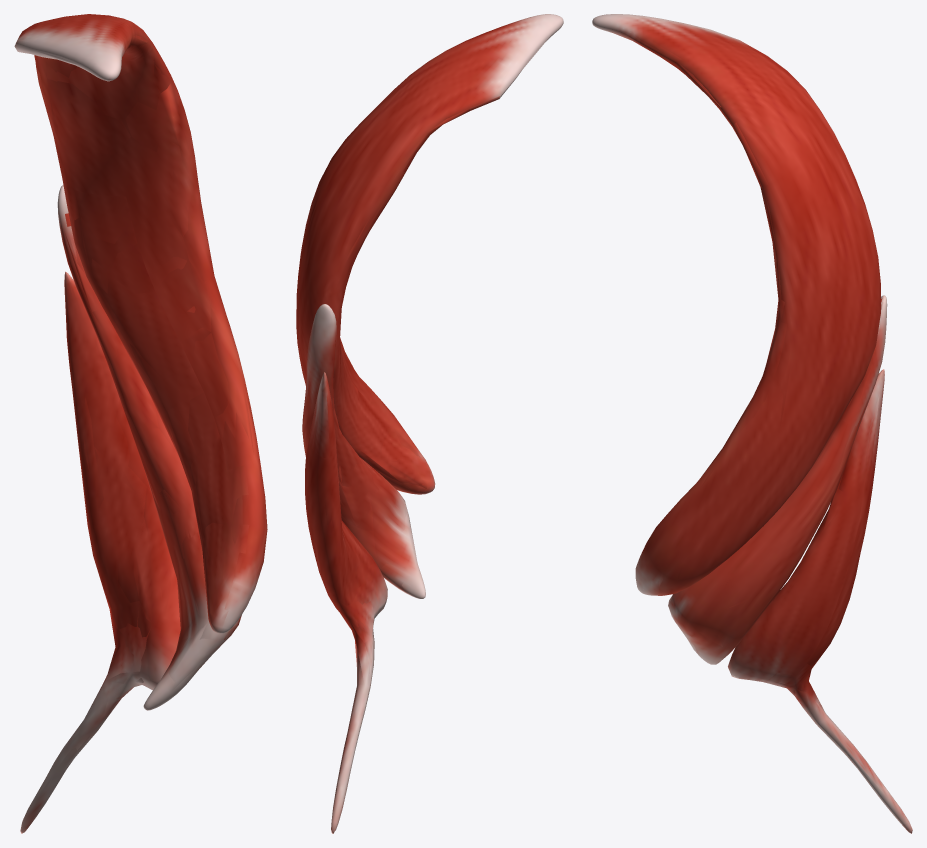
The model's file is L Biceps Femoris.fbx.
The picture shows the model from 3 angles, left to right: view 1: azimuth 30°, elevation 25°; view 2: azimuth 150°, elevation 25°; view 3: azimuth 270°, elevation 25°; orthographic projection. The views are drawn at different scales.
Visible parts, largest first — view 1: L Biceps Femoris, L Biceps Femoris low; view 2: L Biceps Femoris, L Biceps Femoris low; view 3: L Biceps Femoris, L Biceps Femoris low.
Part boxes in pixels (x1,y1,x2,y2): L Biceps Femoris: [14, 14, 267, 833]; L Biceps Femoris low: [15, 20, 260, 821]; L Biceps Femoris: [296, 14, 563, 833]; L Biceps Femoris low: [297, 32, 555, 831]; L Biceps Femoris: [592, 14, 912, 833]; L Biceps Femoris low: [604, 26, 912, 830].
Size of the model in its own units: 24.45 by 94.74 by 35.21.
